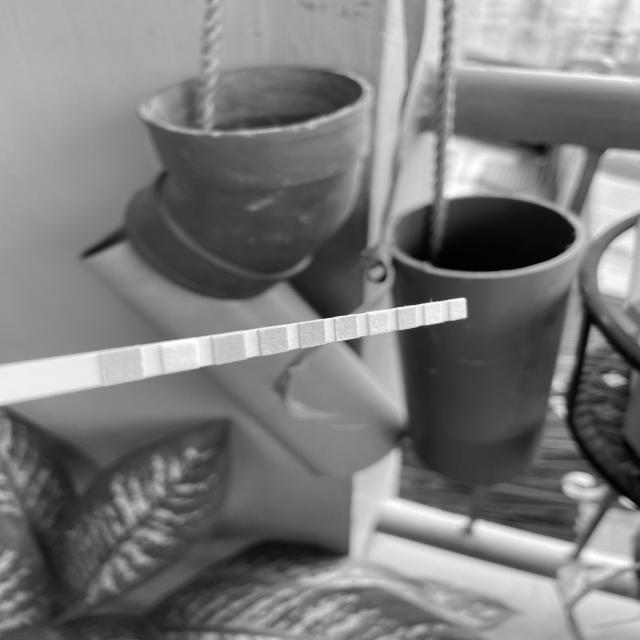Bilirubin: (168, 344, 196, 368)
Blood: (302, 324, 324, 344)
Glucose: (108, 352, 140, 380)
Ketone: (218, 337, 244, 359)
Leukocytes: (452, 302, 465, 318)
Nitrite: (426, 305, 441, 323)
Protein: (370, 314, 389, 332)
SpGravity: (264, 331, 287, 351)
Urobilinogen: (400, 309, 416, 327)
background: (0, 0, 640, 640)
pH: (337, 319, 356, 338)
strip: (1, 297, 466, 407)
